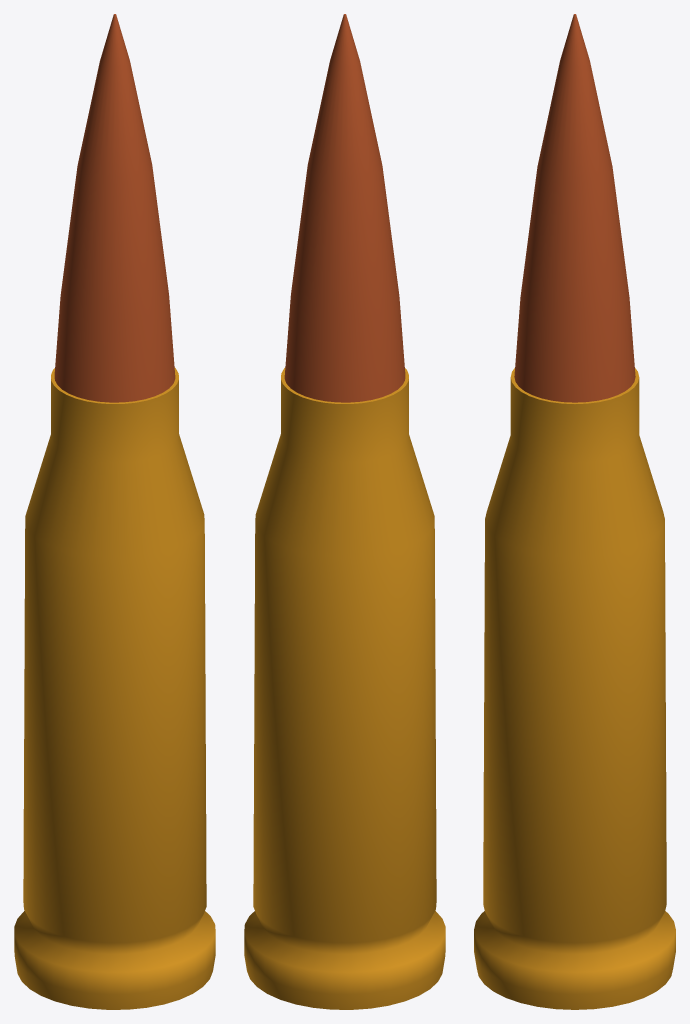
Rendered from ammo-sniper.glb.
3 renders of one model, left to right at view 1: azimuth 30°, elevation 25°; view 2: azimuth 150°, elevation 25°; view 3: azimuth 270°, elevation 25°, orthographic.
Visible parts, largest first — view 1: ammo-sniper-surfaces; view 2: ammo-sniper-surfaces; view 3: ammo-sniper-surfaces.
Part boxes in pixels (x1,y1,x2,y2): ammo-sniper-surfaces: (14, 14, 215, 1009); ammo-sniper-surfaces: (244, 14, 445, 1009); ammo-sniper-surfaces: (474, 14, 675, 1009).
Size of the model in its own units: 0.165 by 0.861 by 0.165.
3 materials, 3 textured.
